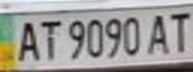0: (121, 12, 145, 56), (84, 15, 106, 60)
9: (103, 13, 127, 60), (63, 16, 87, 61)
A: (12, 17, 42, 62), (145, 10, 172, 56)
T: (163, 8, 193, 54), (33, 17, 63, 61)
